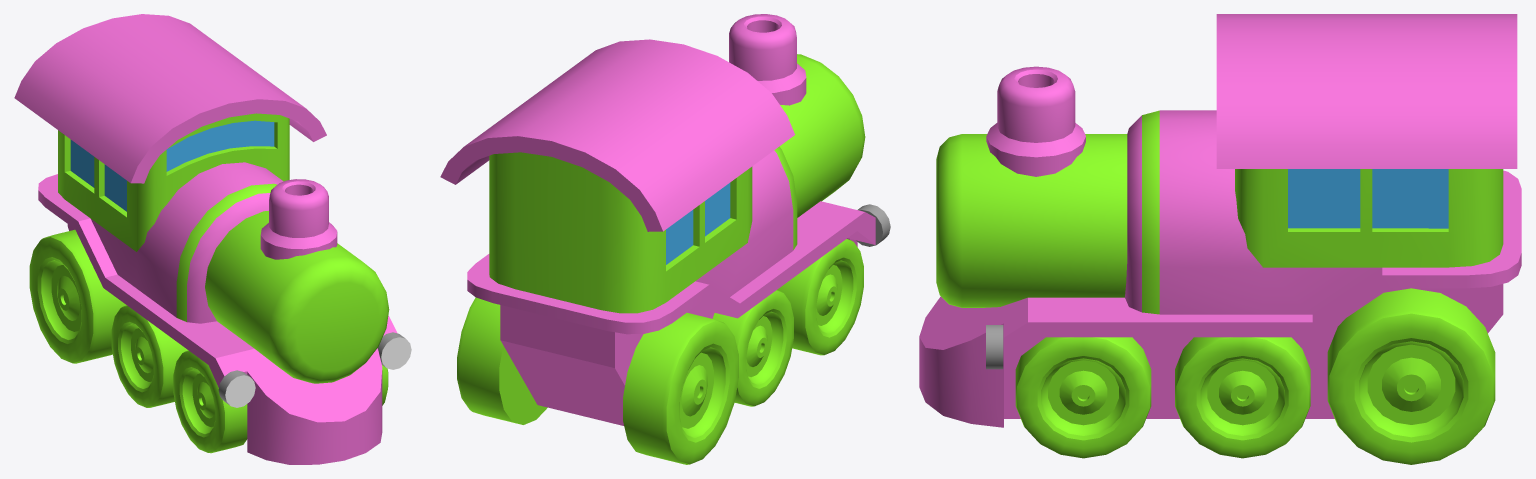
Rendered from Cake_ThemeToys_K.FBX.
3 views of the same model, side by side, from view 1: azimuth 30°, elevation 25°; view 2: azimuth 150°, elevation 25°; view 3: azimuth 270°, elevation 25° (orthographic). The views are drawn at different scales.
Visible parts, largest first — view 1: Cake_ThemeToys_K; view 2: Cake_ThemeToys_K; view 3: Cake_ThemeToys_K.
Boxes of the visible parts, x1,y1,x2,y2 form: Cake_ThemeToys_K: (14, 14, 411, 464); Cake_ThemeToys_K: (440, 14, 890, 464); Cake_ThemeToys_K: (919, 14, 1521, 464).
Size of the model in its own units: 33511 by 47108 by 68933.
